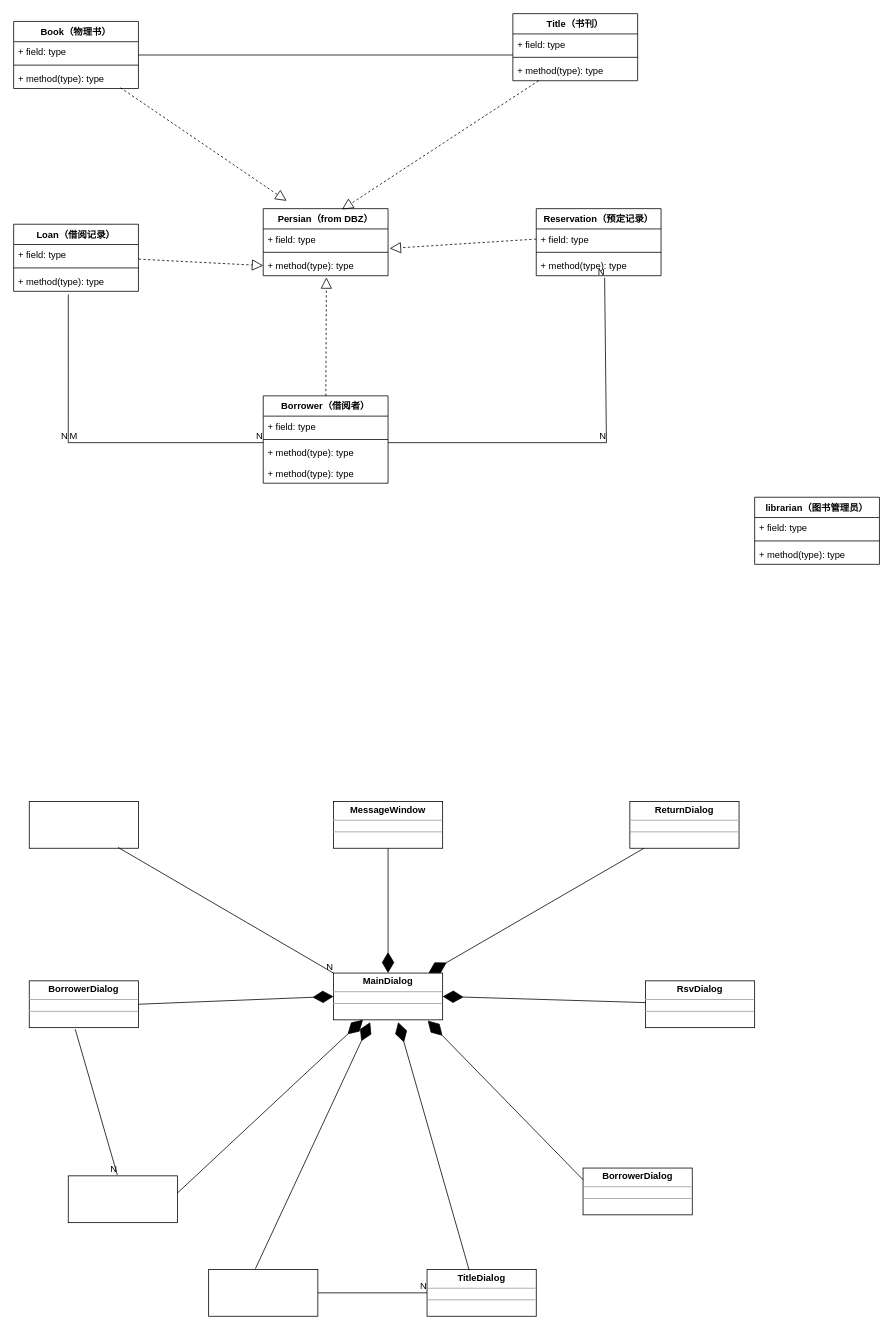
Some shapes in this 893 by 1330 pixel diagram are drawn without their labels. Each missing label, with the centre of its shape:
FindBwrDialog: point (122, 1199)
FindTDialog: point (263, 1292)
LoginDialog: point (83, 824)
